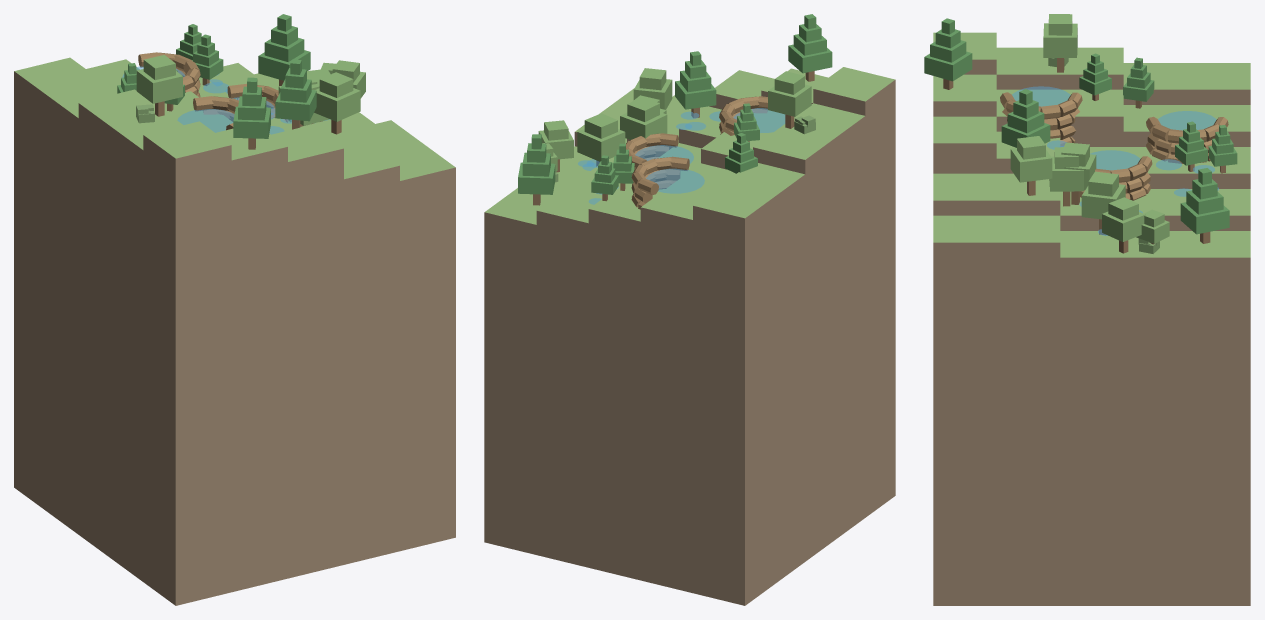
Rendered from block_1_leakingdam_100.glb.
The picture shows the model from 3 angles, left to right: view 1: azimuth 30°, elevation 25°; view 2: azimuth 150°, elevation 25°; view 3: azimuth 270°, elevation 25°; orthographic projection. The views are drawn at different scales.
Parts seen in each view (by area): view 1: Patch_UpperLeft_b02_LD, LD_Dam_01, LD_Veg_01_006, LD_Veg_01_004, LD_Veg_01_014, LD_Veg_01_001, LD_Veg_01_002, LD_Water_01, LD_Veg_01_000, LD_Veg_01_015; view 2: Patch_UpperLeft_b02_LD, LD_Dam_01, LD_Water_01, LD_Veg_01_002, LD_Veg_01_006, LD_Veg_01_014, LD_Veg_01_012, LD_Veg_01_004, LD_Veg_01_009, LD_Veg_01_001, LD_Veg_01_015, LD_Veg_01_005 (+3 smaller); view 3: Patch_UpperLeft_b02_LD, LD_Dam_01, LD_Water_01, LD_Veg_01_006, LD_Veg_01_002, LD_Veg_01_001, LD_Veg_01_014, LD_Veg_01_015, LD_Veg_01_004, LD_Veg_01_012, LD_Veg_01_013, LD_Veg_01_000 (+5 smaller).
Part boxes in pixels (left/top/right/bottom): Patch_UpperLeft_b02_LD: left=14, top=57, right=455, bottom=605; LD_Dam_01: left=138, top=52, right=288, bottom=130; LD_Veg_01_006: left=258, top=14, right=310, bottom=86; LD_Veg_01_004: left=136, top=55, right=182, bottom=116; LD_Veg_01_014: left=275, top=59, right=316, bottom=129; LD_Veg_01_001: left=314, top=72, right=360, bottom=134; LD_Veg_01_002: left=233, top=77, right=270, bottom=149; LD_Water_01: left=122, top=66, right=329, bottom=134; LD_Veg_01_000: left=192, top=34, right=223, bottom=85; LD_Veg_01_015: left=332, top=60, right=365, bottom=98; Patch_UpperLeft_b02_LD: left=484, top=67, right=895, bottom=605; LD_Dam_01: left=626, top=96, right=767, bottom=209; LD_Water_01: left=578, top=108, right=785, bottom=204; LD_Veg_01_002: left=788, top=14, right=832, bottom=81; LD_Veg_01_006: left=518, top=134, right=555, bottom=205; LD_Veg_01_014: left=675, top=51, right=716, bottom=118; LD_Veg_01_012: left=577, top=113, right=625, bottom=166; LD_Veg_01_004: left=768, top=71, right=811, bottom=128; LD_Veg_01_009: left=620, top=97, right=667, bottom=139; LD_Veg_01_001: left=633, top=68, right=672, bottom=109; LD_Veg_01_015: left=538, top=120, right=573, bottom=172; LD_Veg_01_005: left=725, top=133, right=757, bottom=173; Patch_UpperLeft_b02_LD: left=933, top=32, right=1250, bottom=605; LD_Dam_01: left=1000, top=92, right=1228, bottom=200; LD_Water_01: left=1012, top=86, right=1218, bottom=235; LD_Veg_01_006: left=1180, top=168, right=1229, bottom=243; LD_Veg_01_002: left=924, top=18, right=972, bottom=89; LD_Veg_01_001: left=1010, top=136, right=1052, bottom=195; LD_Veg_01_014: left=1001, top=89, right=1050, bottom=147; LD_Veg_01_015: left=1102, top=197, right=1145, bottom=253; LD_Veg_01_004: left=1043, top=14, right=1077, bottom=72; LD_Veg_01_012: left=1081, top=171, right=1125, bottom=235; LD_Veg_01_013: left=1049, top=147, right=1083, bottom=206; LD_Veg_01_000: left=1175, top=121, right=1207, bottom=171.
Size of the model in its own units: 9.73 by 16.21 by 9.77.
